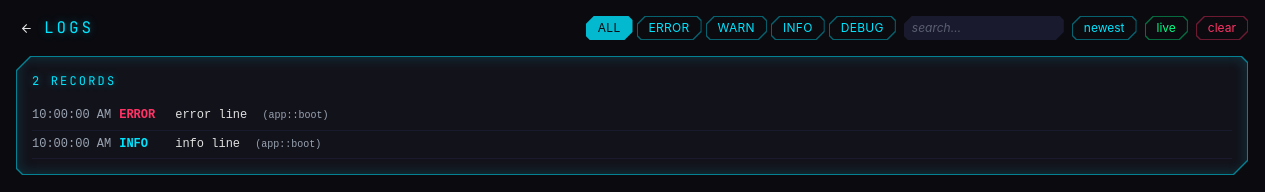
Scenario: LogsView › filters rows by level
The image size is (1265, 192).
Expected: the text "info line" is shown, [175,136,240,150]
Expected: the text "error line" is shown, [175,108,247,122]
Click the button "ERROR" at (669, 28), box [636,16,702,40]
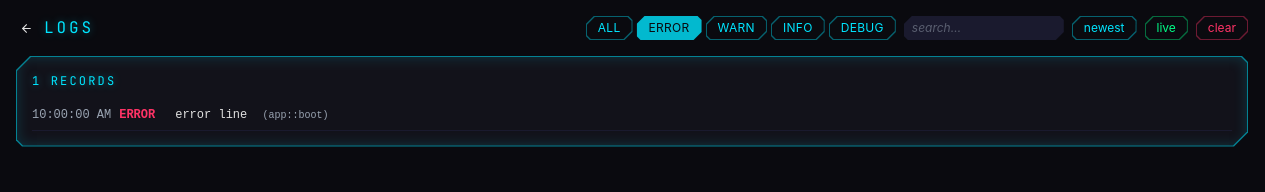
Expected: the text "error line" is shown, [175,108,247,122]
Now the text "info line" is gone
